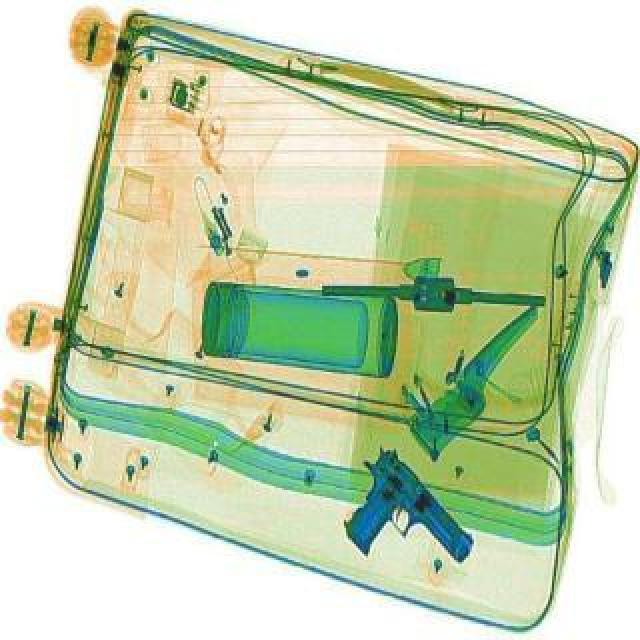gun: (314, 444, 486, 604)
